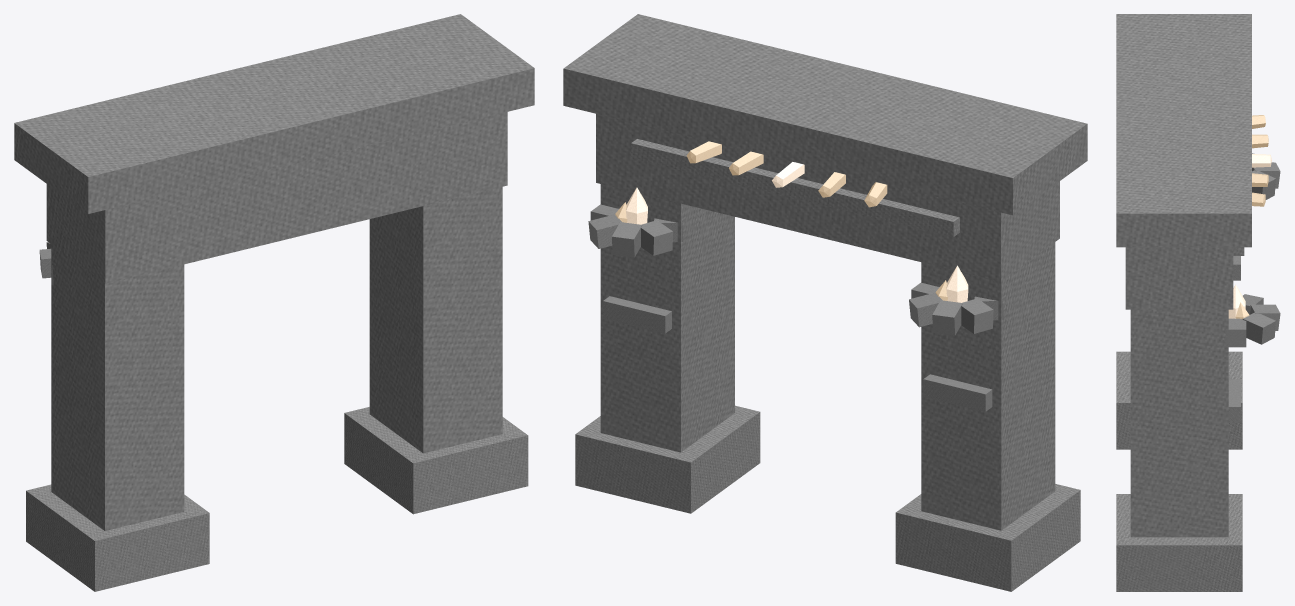
Rendered from decor-geode-hearth-mantel.glb.
The picture shows the model from 3 angles, left to right: view 1: azimuth 30°, elevation 25°; view 2: azimuth 150°, elevation 25°; view 3: azimuth 270°, elevation 25°; orthographic projection. The views are drawn at different scales.
Visible parts, largest first — view 1: mantel-shelf, lintel, pillar--0.72, pillar-0.72, pillar-foot-0.72, pillar-foot--0.72; view 2: mantel-shelf, pillar--0.72, pillar-0.72, lintel, pillar-foot--0.72, pillar-foot-0.72, lintel-band, pillar-band--0.72, pillar-band-0.72, geode-shell-UnityEngine.Vector3-4, geode-shell-UnityEngine.Vector3-4.001, geode-shell-UnityEngine.Vector3-5 (+3 smaller); view 3: mantel-shelf, pillar-0.72, pillar-foot-0.72, lintel, pillar-foot--0.72, geode-shell-UnityEngine.Vector3-6.001, geode-shell-UnityEngine.Vector3-0.001, pillar-band-0.72, geode-shell-UnityEngine.Vector3-5.001, geode-shell-UnityEngine.Vector3-6, geode-heart-UnityEngine.Vector3.001, geode-shell-UnityEngine.Vector3-5 (+1 smaller).
Part boxes in pixels (<box>): mantel-shelf: <box>14,14,534,213</box>; lintel: <box>46,112,507,283</box>; pillar--0.72: <box>51,244,184,530</box>; pillar-0.72: <box>369,187,502,453</box>; pillar-foot-0.72: <box>344,407,528,514</box>; pillar-foot--0.72: <box>26,484,209,591</box>; mantel-shelf: <box>563,14,1087,215</box>; pillar--0.72: <box>921,242,1055,530</box>; pillar-0.72: <box>600,184,734,452</box>; lintel: <box>596,114,1059,281</box>; pillar-foot--0.72: <box>895,484,1080,591</box>; pillar-foot-0.72: <box>575,405,760,513</box>; lintel-band: <box>631,139,959,236</box>; pillar-band--0.72: <box>923,374,992,411</box>; pillar-band-0.72: <box>603,296,671,333</box>; geode-shell-UnityEngine.Vector3-4: <box>961,298,993,333</box>; geode-shell-UnityEngine.Vector3-4.001: <box>641,220,672,255</box>; geode-shell-UnityEngine.Vector3-5: <box>932,300,962,335</box>; mantel-shelf: <box>1116,14,1251,247</box>; pillar-0.72: <box>1130,309,1228,537</box>; pillar-foot-0.72: <box>1116,494,1242,591</box>; lintel: <box>1125,247,1233,309</box>; pillar-foot--0.72: <box>1116,351,1242,449</box>; geode-shell-UnityEngine.Vector3-6.001: <box>1242,312,1275,344</box>; geode-shell-UnityEngine.Vector3-0.001: <box>1225,318,1246,347</box>; pillar-band-0.72: <box>1228,379,1240,422</box>; geode-shell-UnityEngine.Vector3-5.001: <box>1250,304,1280,330</box>; geode-shell-UnityEngine.Vector3-6: <box>1252,170,1275,199</box>; geode-heart-UnityEngine.Vector3.001: <box>1228,284,1245,318</box>; geode-shell-UnityEngine.Vector3-5: <box>1252,162,1280,188</box>.
Bounding box in the file's own units: 2.02 × 1.8 × 0.7017.
8 materials, 8 textured.
